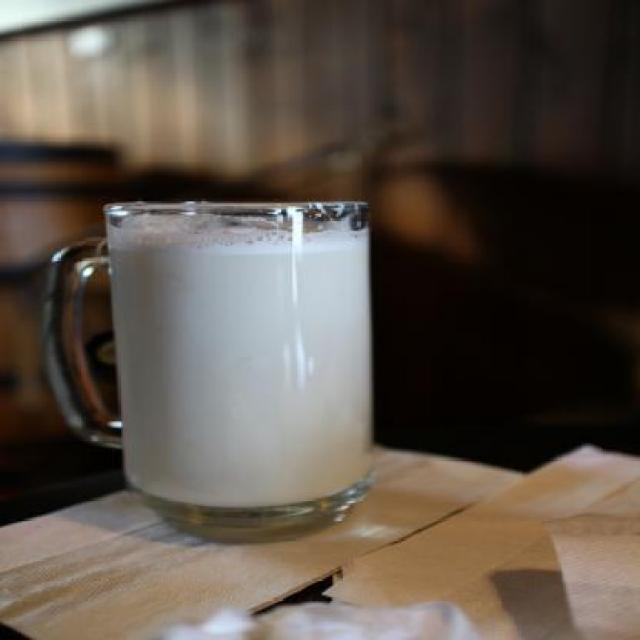Milk: (109, 232, 374, 510)
